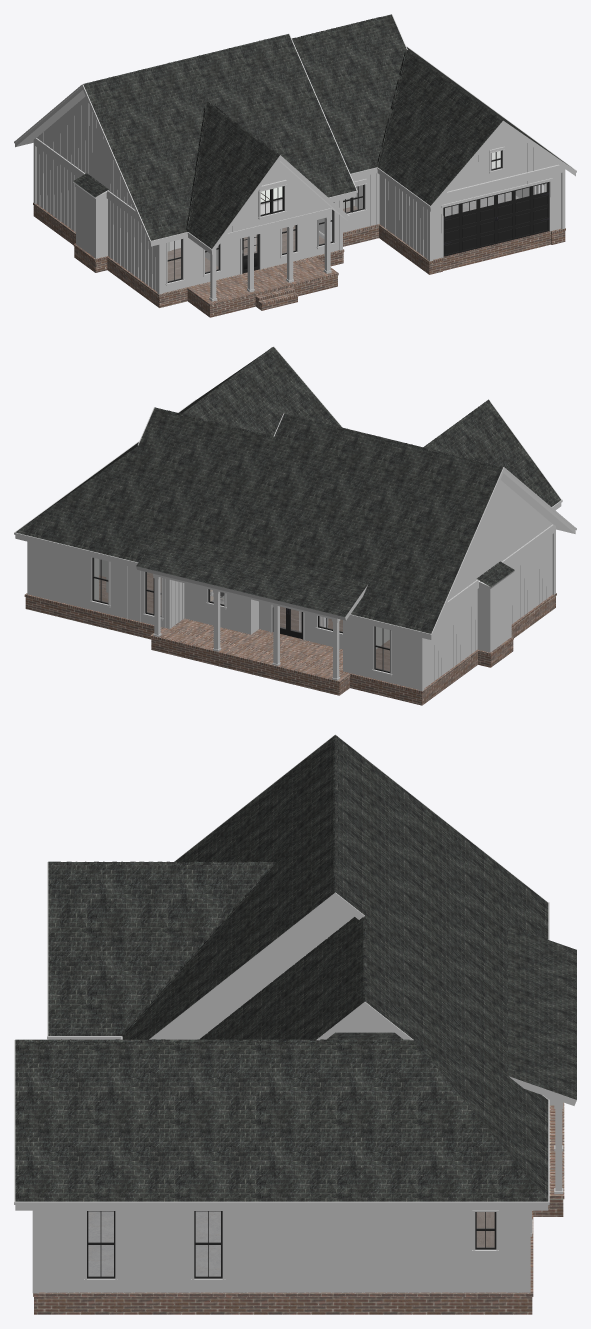
The model's file is garage-american-house.glb.
3 views of the same model, one above another, from view 1: azimuth 30°, elevation 25°; view 2: azimuth 150°, elevation 25°; view 3: azimuth 270°, elevation 25° (orthographic). The views are drawn at different scales.
Parts seen in each view (by area): view 1: US-Home-Roof_43, US-Home-Main_Walls_66, US-Home-Main_Foundation_67, US-Home-Wooden_Struts_65, US-Home-Support_Beams_45, US-Home-Door_Garage_17, US-Home-Roofing_Tiles_Trim_42, US-Home-Window_Single_09_61, US-Home-Window_Double_Small_02_52, US-Home-Door_Front_7, US-Home-Window_Single_06_58, US-Home-Window_Double_Small_01_50; view 2: US-Home-Roof_43, US-Home-Main_Walls_66, US-Home-Main_Foundation_67, US-Home-Wooden_Struts_65, US-Home-Support_Beams_45, US-Home-Roofing_Tiles_Trim_42, US-Home-Window_Single_03_55, US-Home-Window_Single_01_53, US-Home-Door_Double_01_5, US-Home-Window_Single_02_54; view 3: US-Home-Roof_43, US-Home-Main_Walls_66, US-Home-Main_Foundation_67, US-Home-Wooden_Struts_65, US-Home-Roofing_Tiles_Trim_42, US-Home-Window_Single_05_57, US-Home-Window_Single_04_56, US-Home-Support_Beams_45, US-Home-Window_Small_02_63.
Boxes of the visible parts, x1=… form: US-Home-Roof_43: x1=14, y1=14, x2=576, y2=254; US-Home-Main_Walls_66: x1=36, y1=96, x2=561, y2=292; US-Home-Main_Foundation_67: x1=33, y1=192, x2=565, y2=317; US-Home-Wooden_Struts_65: x1=39, y1=96, x2=558, y2=291; US-Home-Support_Beams_45: x1=33, y1=138, x2=565, y2=301; US-Home-Door_Garage_17: x1=443, y1=182, x2=549, y2=256; US-Home-Roofing_Tiles_Trim_42: x1=84, y1=14, x2=503, y2=231; US-Home-Window_Single_09_61: x1=165, y1=238, x2=184, y2=285; US-Home-Window_Double_Small_02_52: x1=258, y1=180, x2=286, y2=219; US-Home-Door_Front_7: x1=242, y1=234, x2=259, y2=273; US-Home-Window_Single_06_58: x1=316, y1=201, x2=336, y2=249; US-Home-Window_Double_Small_01_50: x1=343, y1=179, x2=366, y2=215; US-Home-Roof_43: x1=14, y1=346, x2=576, y2=639; US-Home-Main_Walls_66: x1=27, y1=480, x2=552, y2=689; US-Home-Main_Foundation_67: x1=24, y1=572, x2=556, y2=705; US-Home-Wooden_Struts_65: x1=36, y1=481, x2=550, y2=688; US-Home-Support_Beams_45: x1=153, y1=524, x2=555, y2=691; US-Home-Roofing_Tiles_Trim_42: x1=154, y1=347, x2=502, y2=468; US-Home-Window_Single_03_55: x1=89, y1=557, x2=110, y2=607; US-Home-Window_Single_01_53: x1=371, y1=626, x2=392, y2=676; US-Home-Door_Double_01_5: x1=272, y1=607, x2=302, y2=639; US-Home-Window_Single_02_54: x1=142, y1=571, x2=163, y2=620; US-Home-Roof_43: x1=14, y1=734, x2=576, y2=1210; US-Home-Main_Walls_66: x1=39, y1=901, x2=530, y2=1292; US-Home-Main_Foundation_67: x1=33, y1=1102, x2=564, y2=1314; US-Home-Wooden_Struts_65: x1=46, y1=903, x2=518, y2=1292; US-Home-Roofing_Tiles_Trim_42: x1=15, y1=736, x2=408, y2=1042; US-Home-Window_Single_05_57: x1=84, y1=1210, x2=117, y2=1282; US-Home-Window_Single_04_56: x1=191, y1=1210, x2=225, y2=1282; US-Home-Support_Beams_45: x1=32, y1=1096, x2=563, y2=1293; US-Home-Window_Small_02_63: x1=472, y1=1210, x2=498, y2=1253.
Size of the model in its own units: 19.5 by 8.64 by 15.47.
19 materials, 13 textured.
